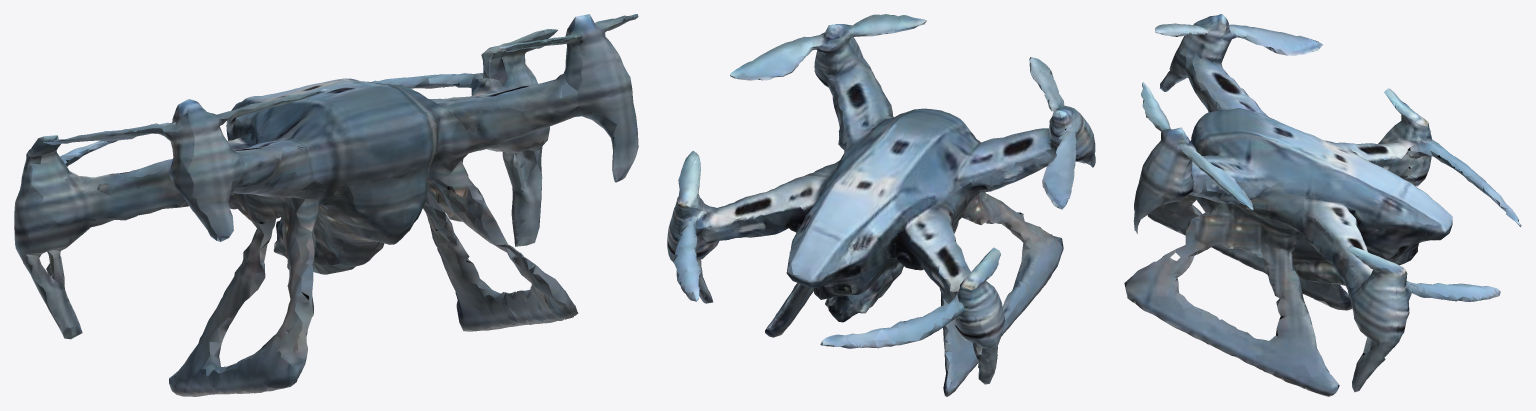
3 renders of one model, left to right at view 1: azimuth 30°, elevation 25°; view 2: azimuth 150°, elevation 25°; view 3: azimuth 270°, elevation 25°, orthographic. The views are drawn at different scales.
Parts seen in each view (by area): view 1: world; view 2: world; view 3: world.
Boxes of the visible parts, <box> form: world: <box>14,14,638,396</box>; world: <box>667,14,1095,396</box>; world: <box>1124,14,1521,396</box>.
Size of the model in its own units: 0.9076 by 0.6519 by 0.8111.
1 material, 1 textured.
